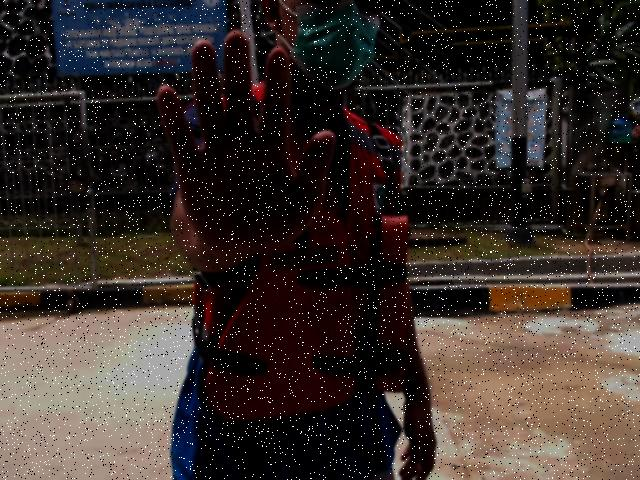mask: (283, 1, 380, 91)
vest: (199, 207, 418, 422)
